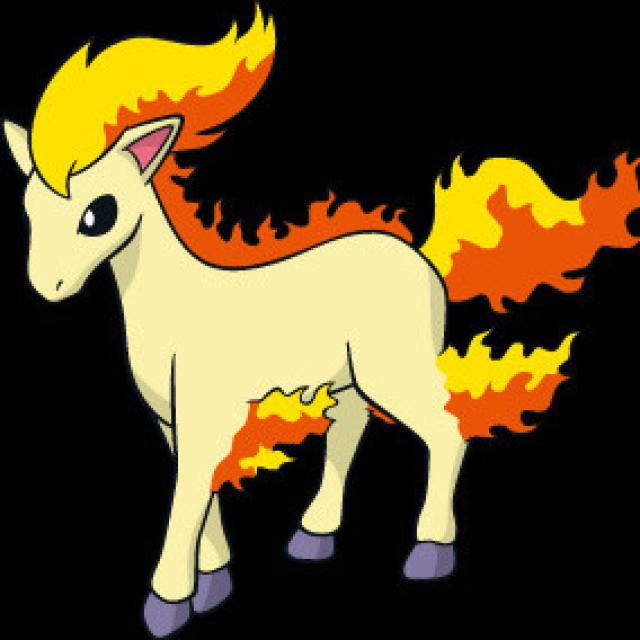Ponyta: (25, 60, 493, 545)
